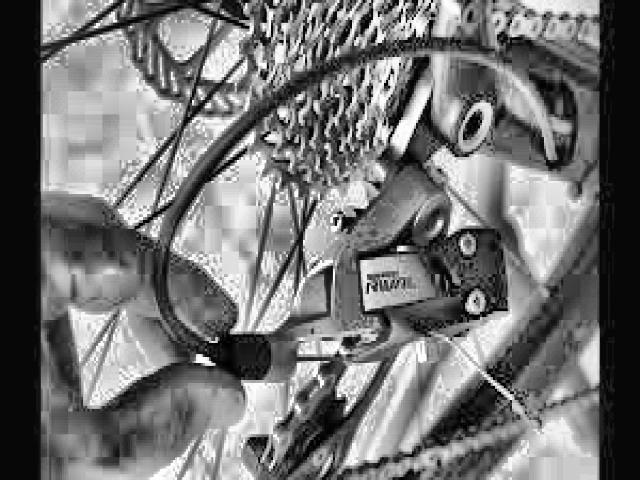rear_derailleur: (220, 154, 512, 480)
